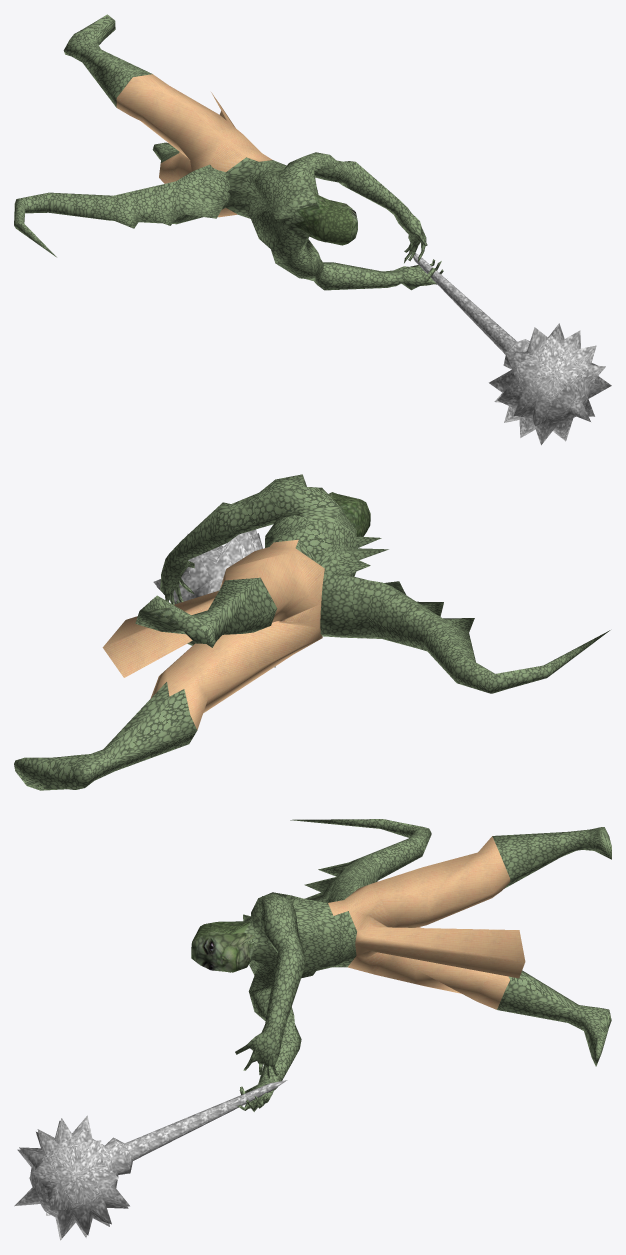
Rendered from makardhwaja_000218.obj.
The picture shows the model from 3 angles, top to bottom: view 1: azimuth 30°, elevation 25°; view 2: azimuth 150°, elevation 25°; view 3: azimuth 270°, elevation 25°; orthographic projection. The views are drawn at different scales.
Parts seen in each view (by area): view 1: hanuman_Cube.000, mace_Cube.008; view 2: hanuman_Cube.000, mace_Cube.008; view 3: hanuman_Cube.000, mace_Cube.008.
Boxes of the visible parts, box(x1,y1,x2,y2) form: hanuman_Cube.000: box(14, 14, 446, 290); mace_Cube.008: box(411, 253, 611, 445); hanuman_Cube.000: box(14, 474, 610, 790); mace_Cube.008: box(153, 529, 275, 667); hanuman_Cube.000: box(191, 819, 611, 1111); mace_Cube.008: box(14, 1080, 287, 1240).
Bounding box in the file's own units: 3.97 × 2.46 × 4.36.
